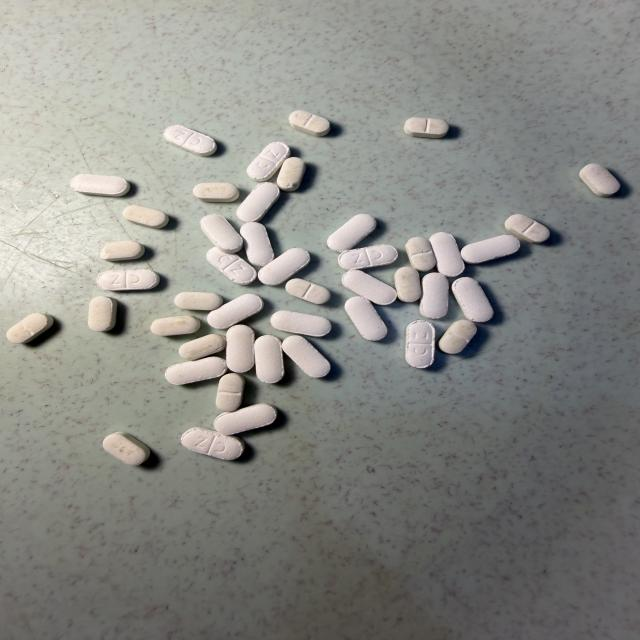pill: (181, 428, 244, 460), (207, 294, 263, 329), (283, 336, 330, 377), (258, 248, 310, 285), (214, 404, 277, 434), (327, 214, 376, 252), (207, 247, 256, 285), (345, 297, 387, 341), (452, 277, 493, 322), (342, 271, 396, 305), (461, 235, 519, 264), (247, 142, 290, 181), (165, 357, 227, 384), (237, 183, 280, 221), (164, 125, 216, 156), (201, 215, 242, 253), (103, 432, 150, 465), (430, 232, 464, 277), (271, 311, 331, 336), (240, 222, 274, 266), (338, 245, 398, 269), (254, 335, 284, 383), (7, 313, 53, 343), (419, 272, 448, 319), (406, 321, 435, 368), (226, 325, 254, 372), (505, 214, 550, 243), (580, 164, 620, 196), (70, 175, 130, 196), (439, 320, 476, 354), (97, 270, 159, 290), (179, 334, 226, 360), (286, 279, 330, 304), (289, 110, 330, 136), (216, 373, 244, 411), (123, 206, 169, 228), (88, 297, 117, 331), (277, 157, 306, 191), (406, 237, 435, 271), (151, 316, 200, 336), (100, 240, 144, 261), (395, 267, 421, 302), (404, 118, 449, 138), (174, 292, 223, 310), (193, 183, 239, 202)
